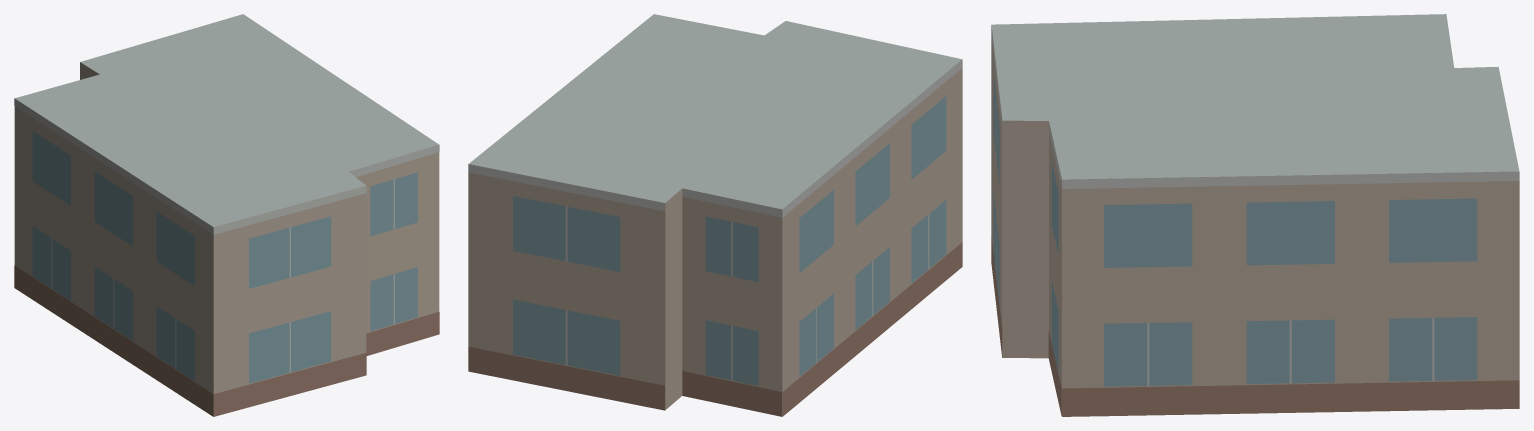
File: survey-upis-32685546.glb
The picture shows the model from 3 angles, left to right: view 1: azimuth 30°, elevation 25°; view 2: azimuth 150°, elevation 25°; view 3: azimuth 270°, elevation 25°; orthographic projection. The views are drawn at different scales.
Parts seen in each view (by area): view 1: survey-upis-32685546.tmp; view 2: survey-upis-32685546.tmp; view 3: survey-upis-32685546.tmp.
Boxes of the visible parts, left/top/right/bottom form: survey-upis-32685546.tmp: left=14, top=14, right=439, bottom=416; survey-upis-32685546.tmp: left=468, top=14, right=962, bottom=416; survey-upis-32685546.tmp: left=991, top=14, right=1519, bottom=416.
Bounding box in the file's own units: 9.14 × 6.1 × 12.32.
